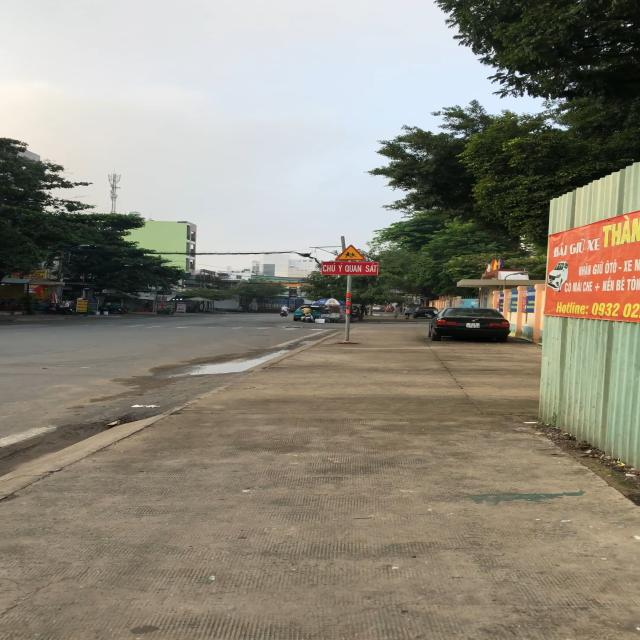Bien bao tre em: (334, 242, 371, 262)
